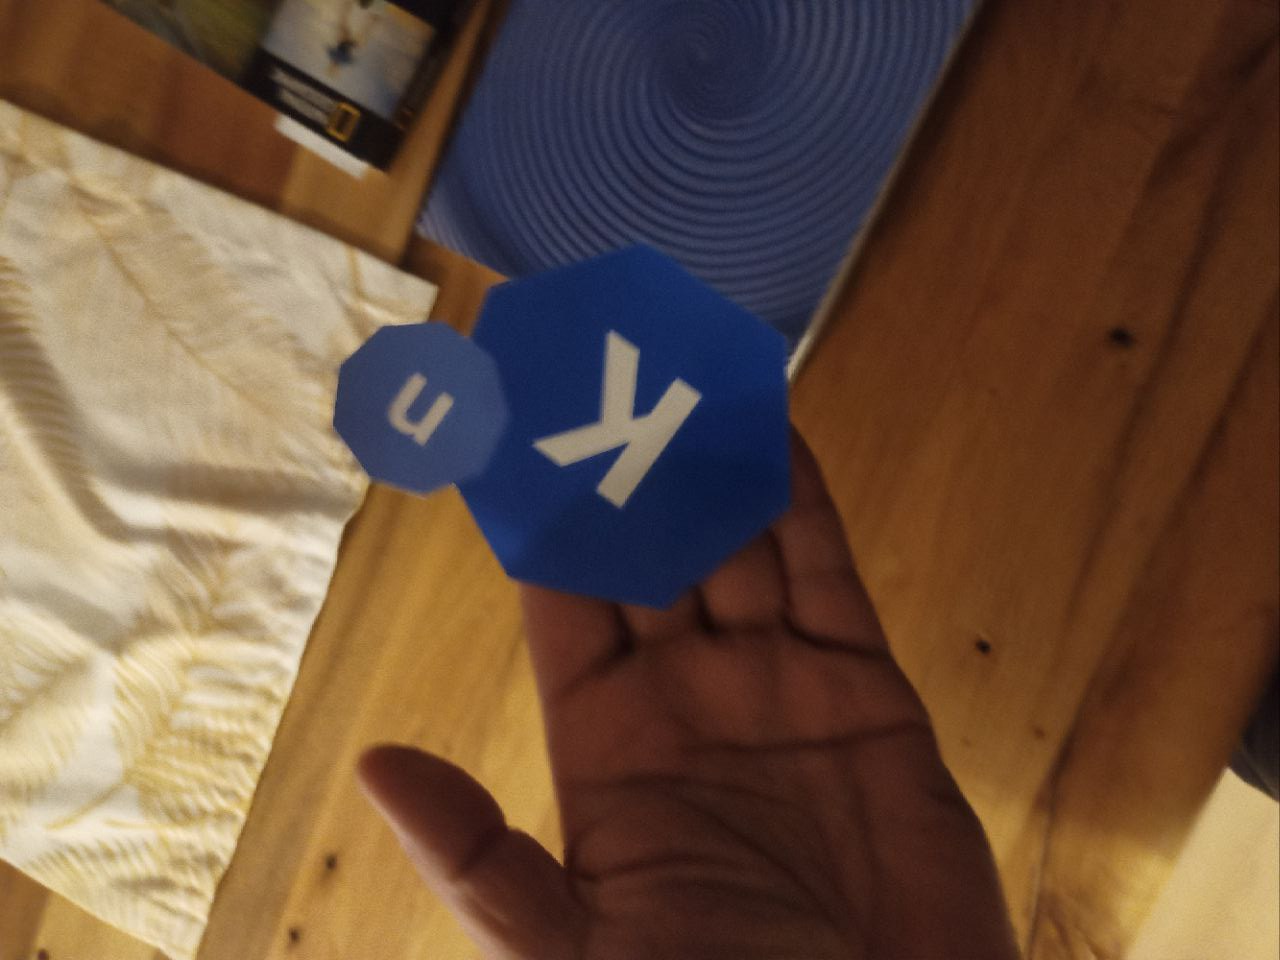knative: (334, 246, 795, 614)
